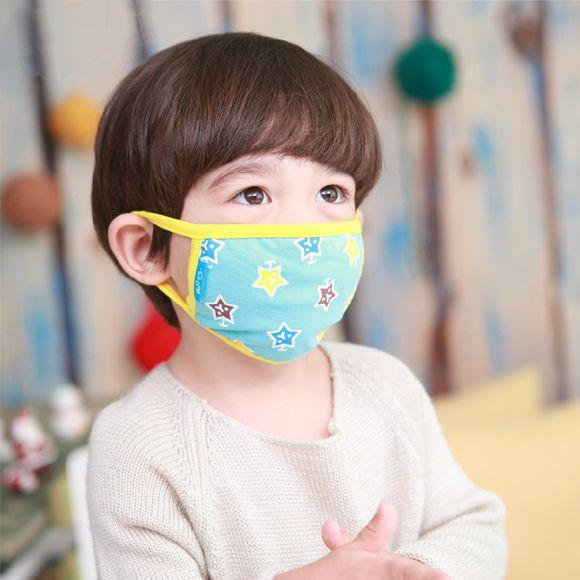OK: (168, 150, 375, 357)
